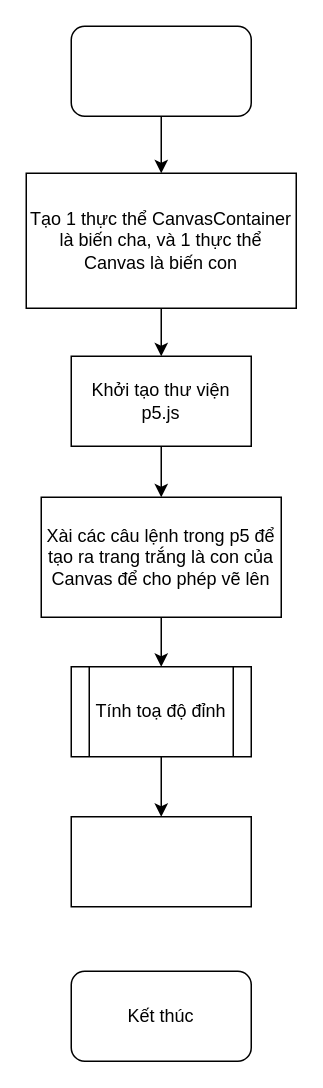
This 323x1088 diagram has some shape labels left out. Here are the shapes that lost their labels. From the top down, the centre of each, then its label:
pixel 160 70: Bắt đầu vẽ
pixel 160 861: Vẽ các cạnh và các đỉnh
